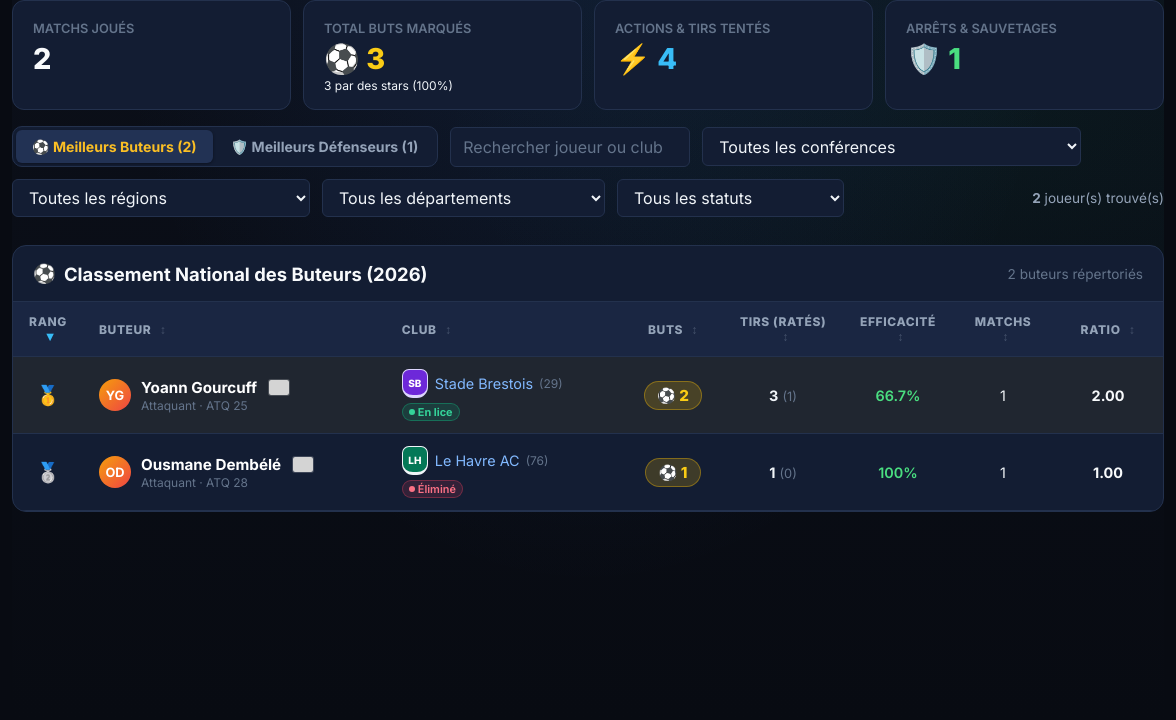
CompetitionStatsView › displays active/eliminated club status badges and allows filtering by status
The image size is (1176, 720).
Expected: the text "En lice" is shown, top-left (402, 403), bottom-right (460, 421)
Expected: the text "Éliminé" is shown, top-left (402, 480), bottom-right (463, 498)
Note: Filter by ALIVE
Select "🟢 En lice uniquement" in the dropdown named "Filtrer par statut du club": {"x": 730, "y": 198} top-left (617, 179), bottom-right (844, 217)
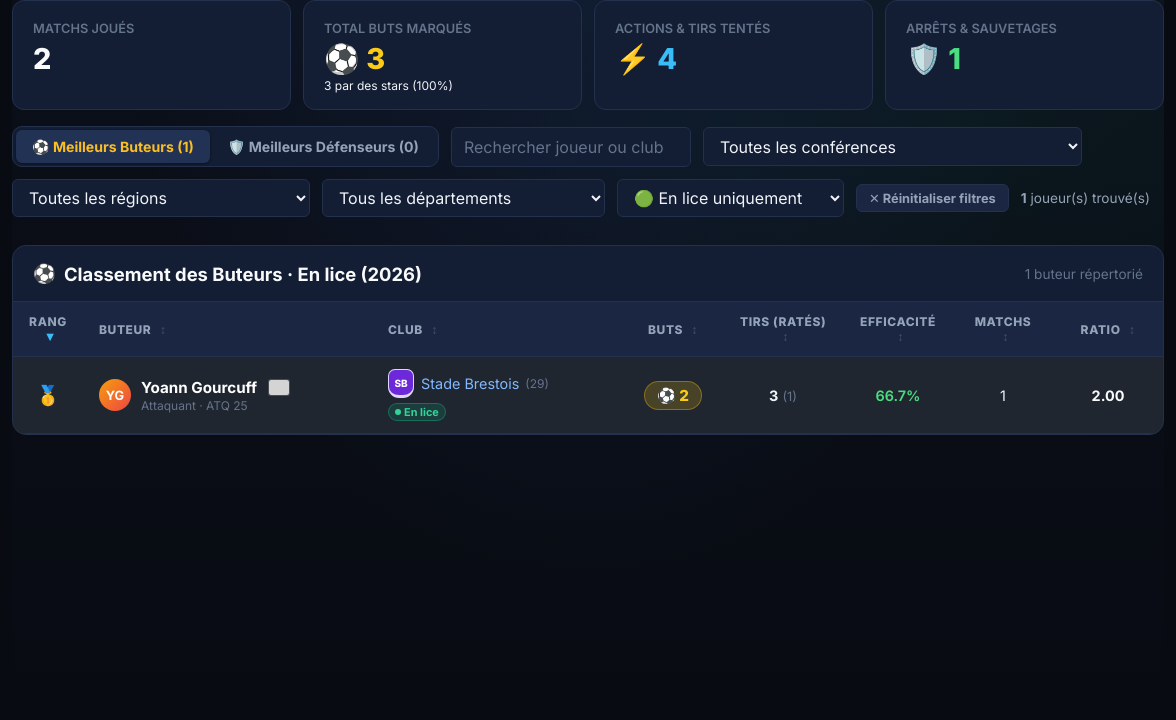
Expected: the link "Yoann Gourcuff" is shown, top-left (141, 378), bottom-right (257, 397)
Expected: the link "Ousmane Dembélé" is gone
Expected: the heading "⚽ Classement des Buteurs · En lice (2026)" is shown, top-left (33, 262), bottom-right (422, 285)
Note: Filter by ELIMINATED
Select "🔴 Éliminés uniquement" in the dropdown named "Filtrer par statut du club": {"x": 730, "y": 198} top-left (617, 179), bottom-right (844, 217)
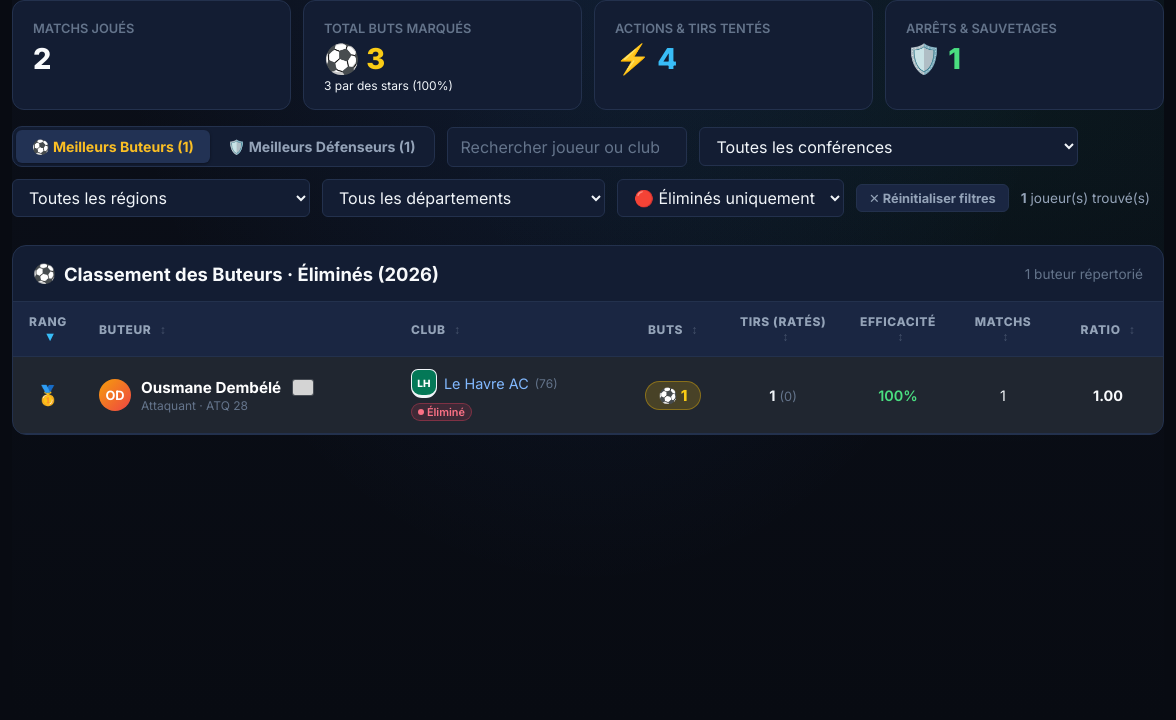
Expected: the link "Yoann Gourcuff" is gone
Expected: the link "Ousmane Dembélé" is shown, top-left (141, 378), bottom-right (281, 397)
Expected: the heading "⚽ Classement des Buteurs · Éliminés (2026)" is shown, top-left (33, 262), bottom-right (439, 285)
